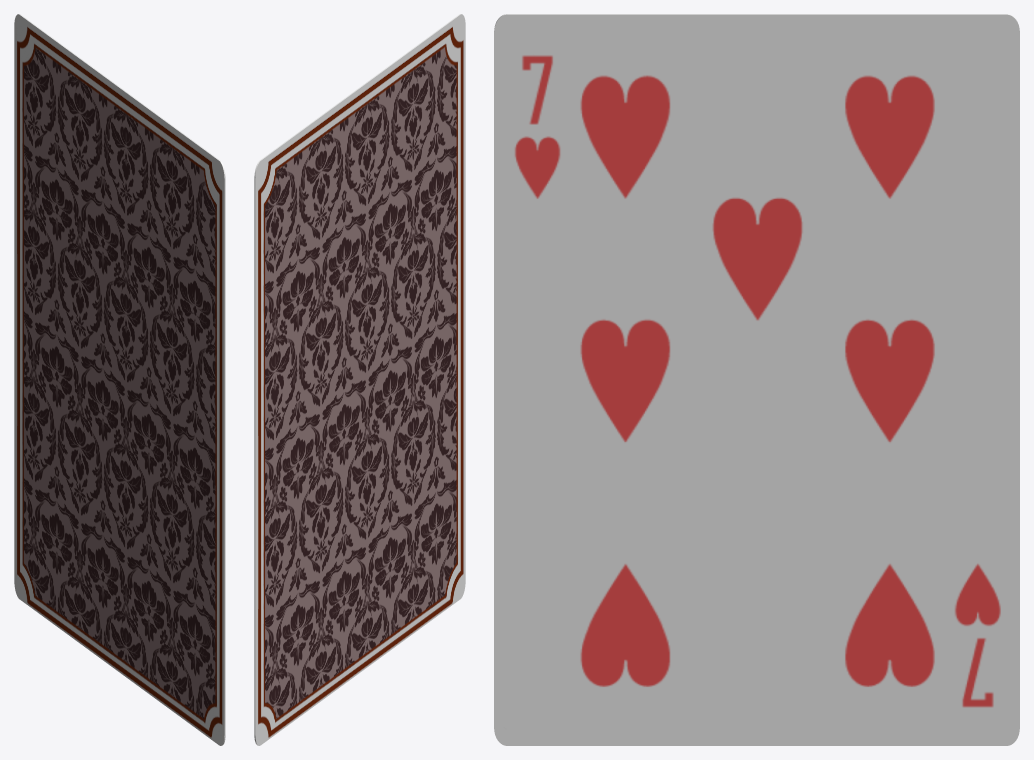
Rendered from heart7.glb.
The picture shows the model from 3 angles, left to right: view 1: azimuth 30°, elevation 25°; view 2: azimuth 150°, elevation 25°; view 3: azimuth 270°, elevation 25°; orthographic projection. The views are drawn at different scales.
Visible parts, largest first — view 1: Cube; view 2: Cube; view 3: Cube.
Boxes of the visible parts, bbox=[...] form: Cube: bbox=[14, 14, 225, 745]; Cube: bbox=[254, 14, 465, 745]; Cube: bbox=[494, 14, 1019, 745].
Bounding box in the file's own units: 0.036 × 17.8 × 11.6.
1 material, 1 textured.
